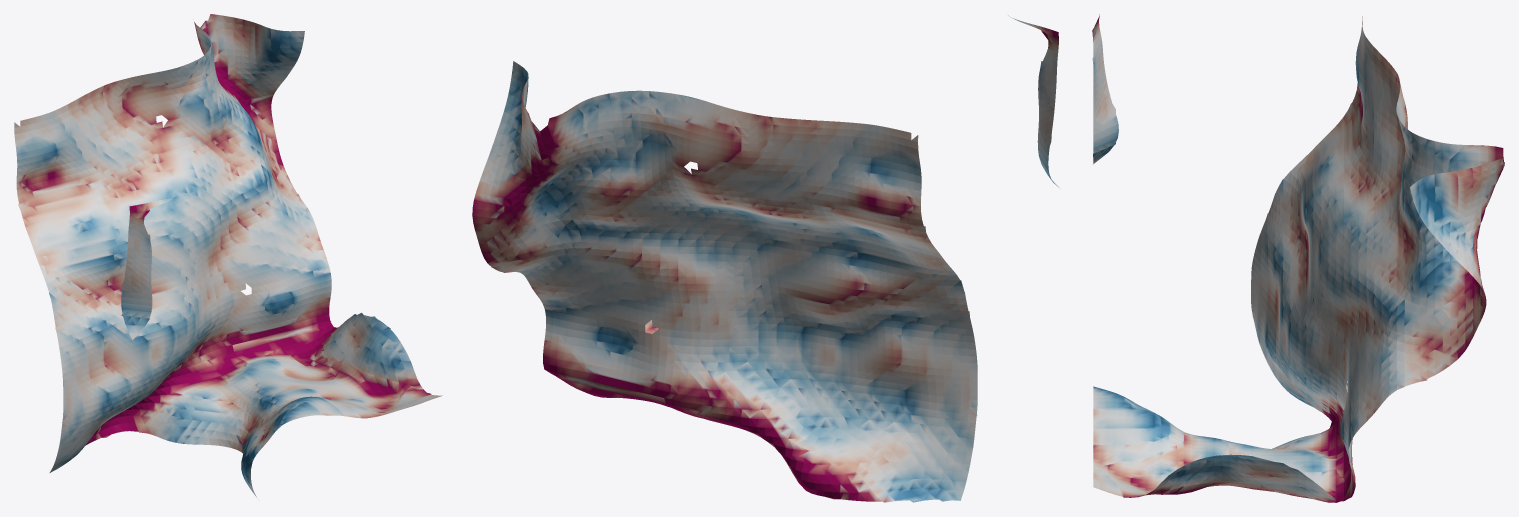
File: crop1035_curvature.glb
The picture shows the model from 3 angles, left to right: view 1: azimuth 30°, elevation 25°; view 2: azimuth 150°, elevation 25°; view 3: azimuth 270°, elevation 25°; orthographic projection. The views are drawn at different scales.
Visible parts, largest first — view 1: world; view 2: world; view 3: world.
Boxes of the visible parts, x1,y1,x2,y2 form: world: (14, 14, 442, 498); world: (472, 15, 1060, 502); world: (1092, 14, 1504, 502).
Size of the model in its own units: 871 by 871 by 870.
